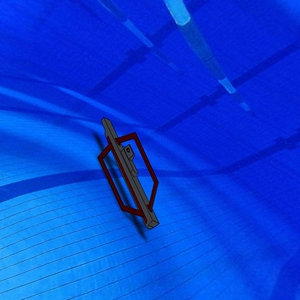submarine: (90, 113, 174, 241)
